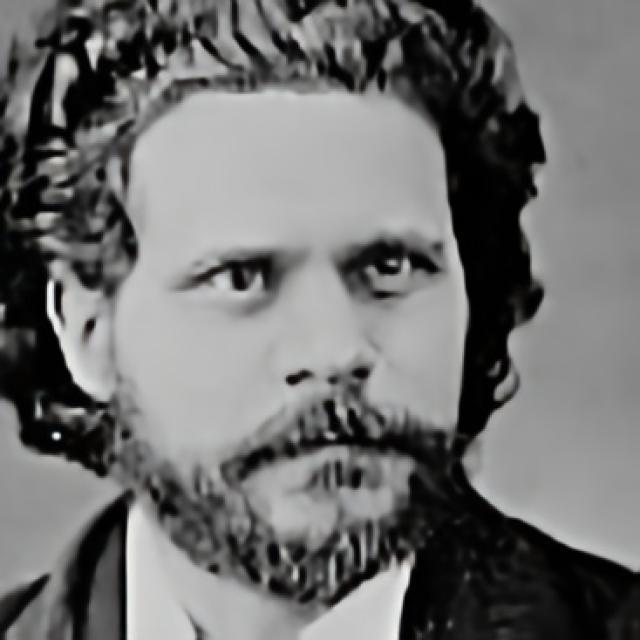neutral: (110, 76, 468, 604)
